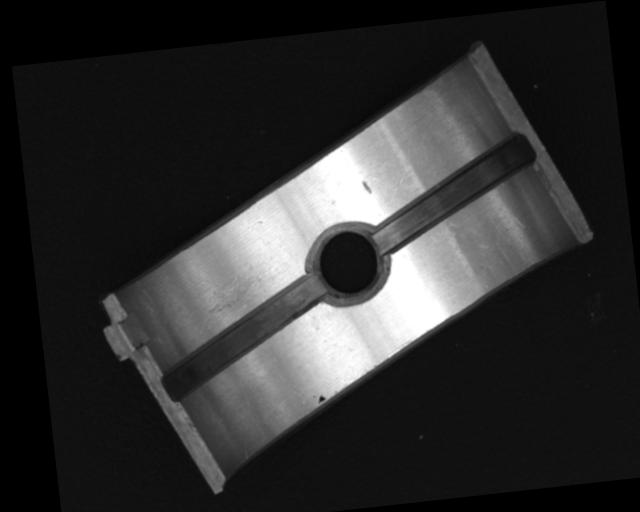blot: (314, 394, 327, 405)
bruise: (361, 178, 373, 195)
gap: (364, 130, 543, 254), (155, 273, 331, 396)
hole: (306, 216, 388, 306)
scratch: (191, 261, 270, 338)
